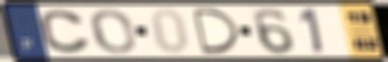0: (148, 7, 192, 55)
1: (296, 7, 326, 55)
6: (251, 7, 297, 56)
C: (37, 9, 94, 54)
D: (189, 7, 243, 55)
O: (89, 8, 138, 55)
